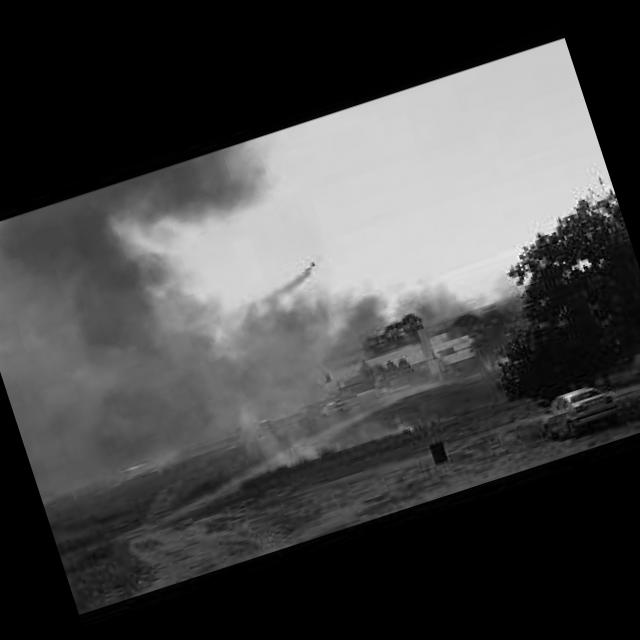fire: (390, 409, 412, 435)
smoke: (0, 127, 373, 503)
